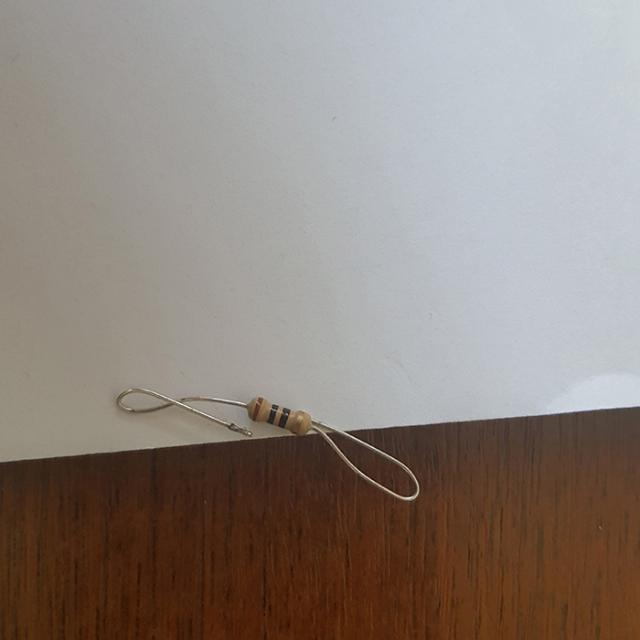black: (279, 407, 288, 426), (267, 404, 276, 423)
brown: (253, 397, 262, 420)
gold: (295, 411, 303, 431)
resistor: (234, 387, 326, 448)
